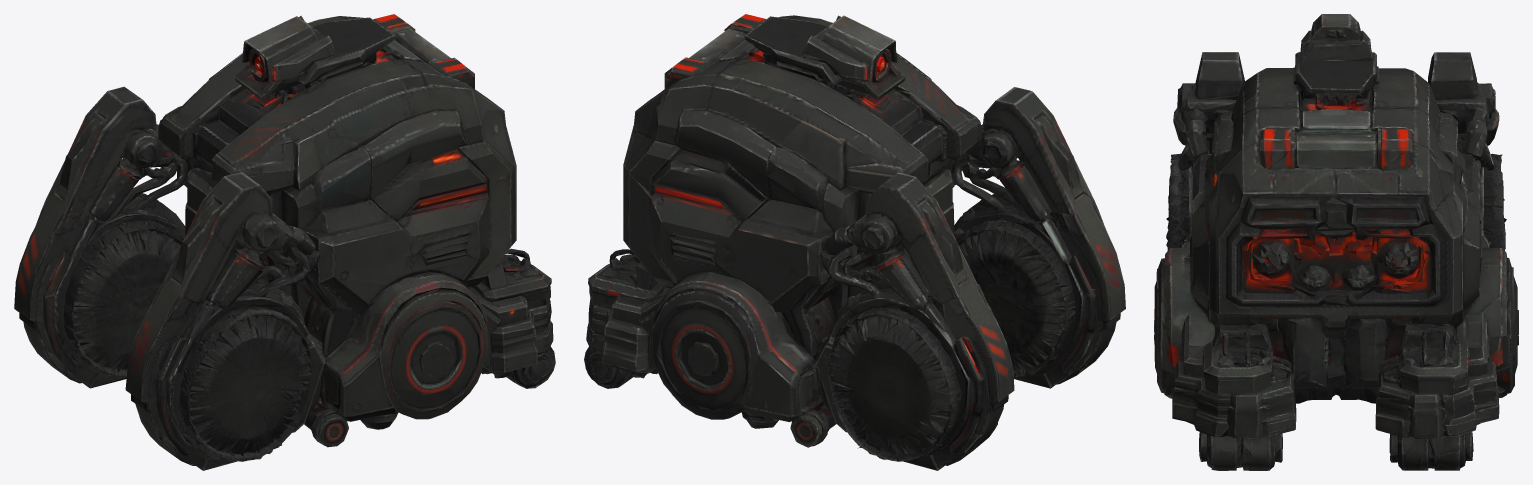
The model's file is cleaning_bot.glb.
The picture shows the model from 3 angles, left to right: view 1: azimuth 30°, elevation 25°; view 2: azimuth 150°, elevation 25°; view 3: azimuth 270°, elevation 25°; orthographic projection.
Bounding box in the file's own units: 1.9 × 1.57 × 1.44.
Materials: 1 (1 with a texture image).
